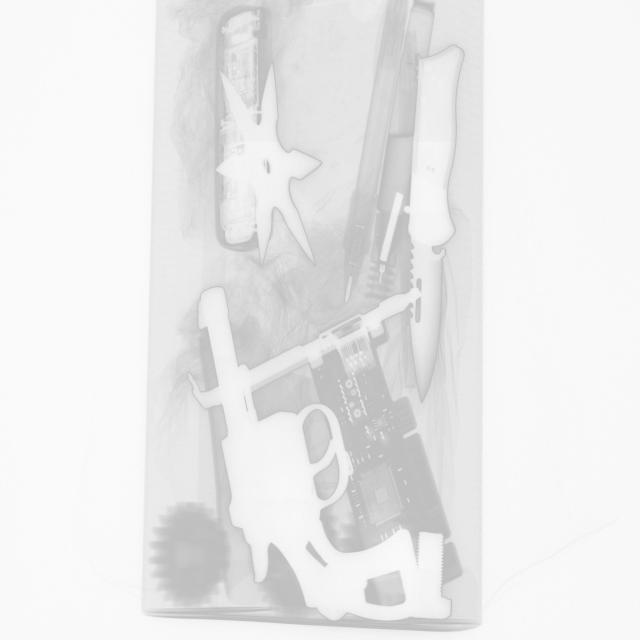knife: (402, 44, 469, 405)
pistol: (196, 286, 426, 623)
